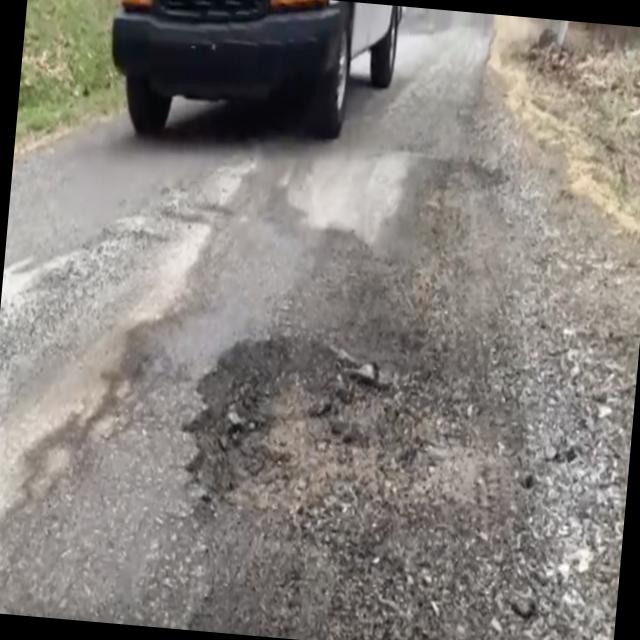Potholes: (162, 308, 536, 600), (274, 120, 501, 290)
